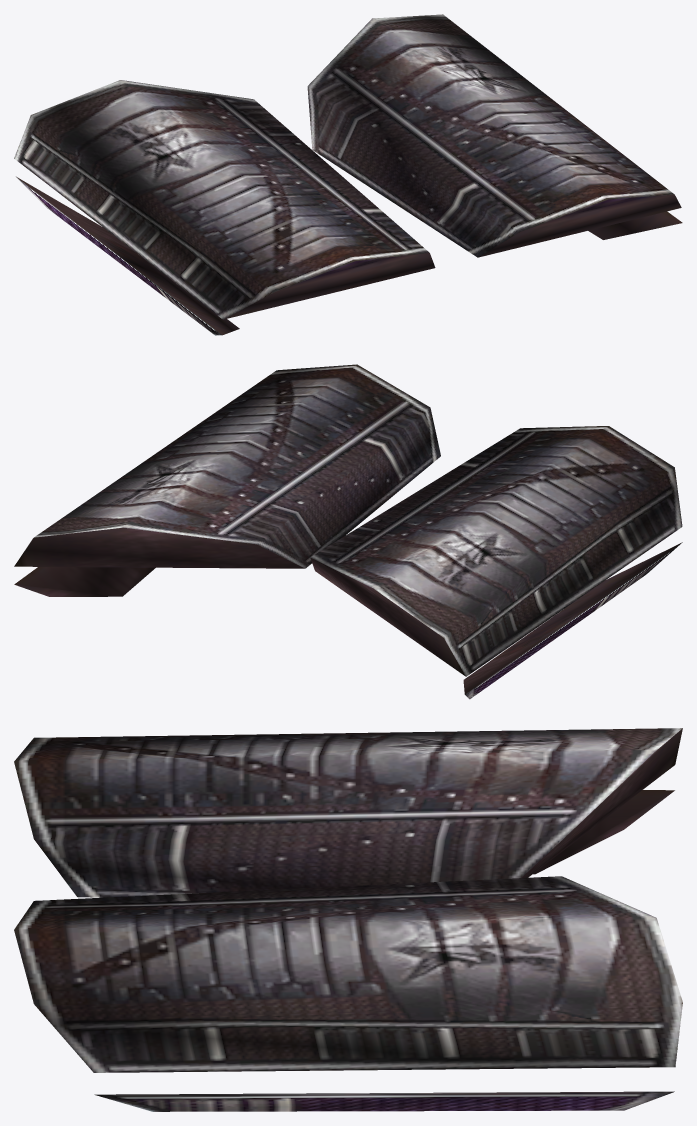
Rendered from LegPads7__MOB.glb.
The picture shows the model from 3 angles, top to bottom: view 1: azimuth 30°, elevation 25°; view 2: azimuth 150°, elevation 25°; view 3: azimuth 270°, elevation 25°; orthographic projection. The views are drawn at different scales.
Parts seen in each view (by area): view 1: LegPads7; view 2: LegPads7; view 3: LegPads7.
Boxes of the visible parts, x1,y1,x2,y2 form: LegPads7: (14, 14, 682, 335); LegPads7: (14, 364, 682, 699); LegPads7: (14, 728, 682, 1111).
Bounding box in the file's own units: 20.86 × 4.9 × 19.26.
1 material, 1 textured.
